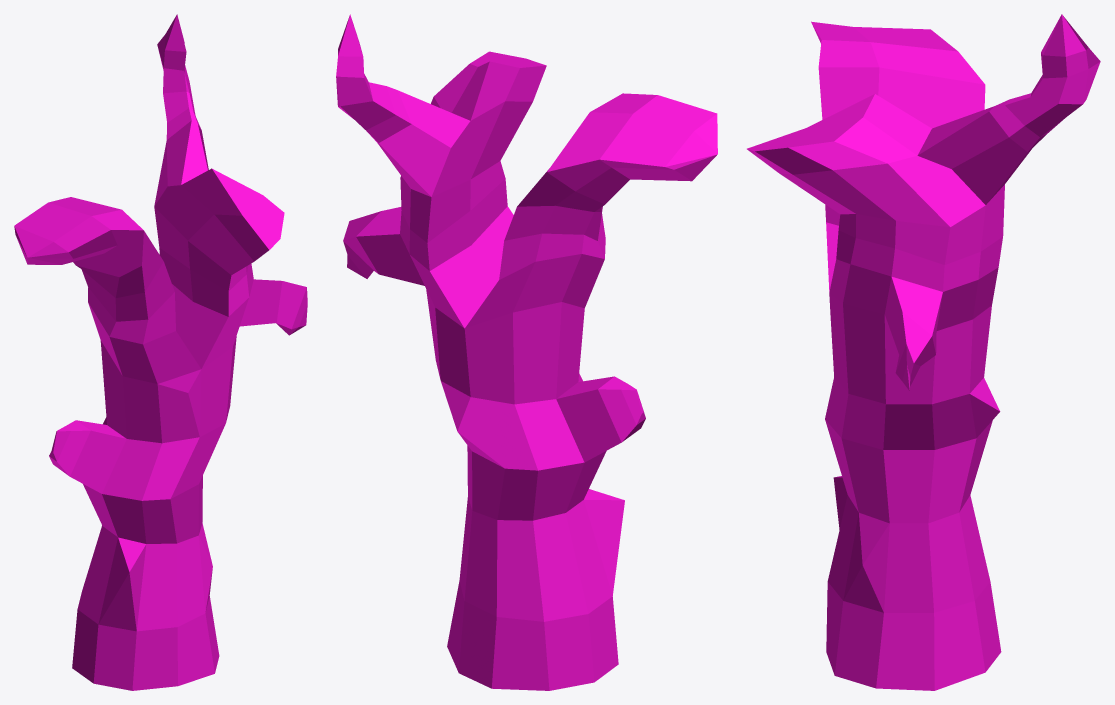
The model's file is coral1.obj.
The picture shows the model from 3 angles, left to right: view 1: azimuth 30°, elevation 25°; view 2: azimuth 150°, elevation 25°; view 3: azimuth 270°, elevation 25°; orthographic projection. The views are drawn at different scales.
Visible parts, largest first — view 1: Cylinder_Cylinder.001; view 2: Cylinder_Cylinder.001; view 3: Cylinder_Cylinder.001.
Boxes of the visible parts, left/top/right/bottom form: Cylinder_Cylinder.001: left=14, top=14, right=307, bottom=690; Cylinder_Cylinder.001: left=336, top=14, right=717, bottom=690; Cylinder_Cylinder.001: left=747, top=14, right=1100, bottom=690.
Size of the model in its own units: 4.12 by 7.54 by 3.48.
